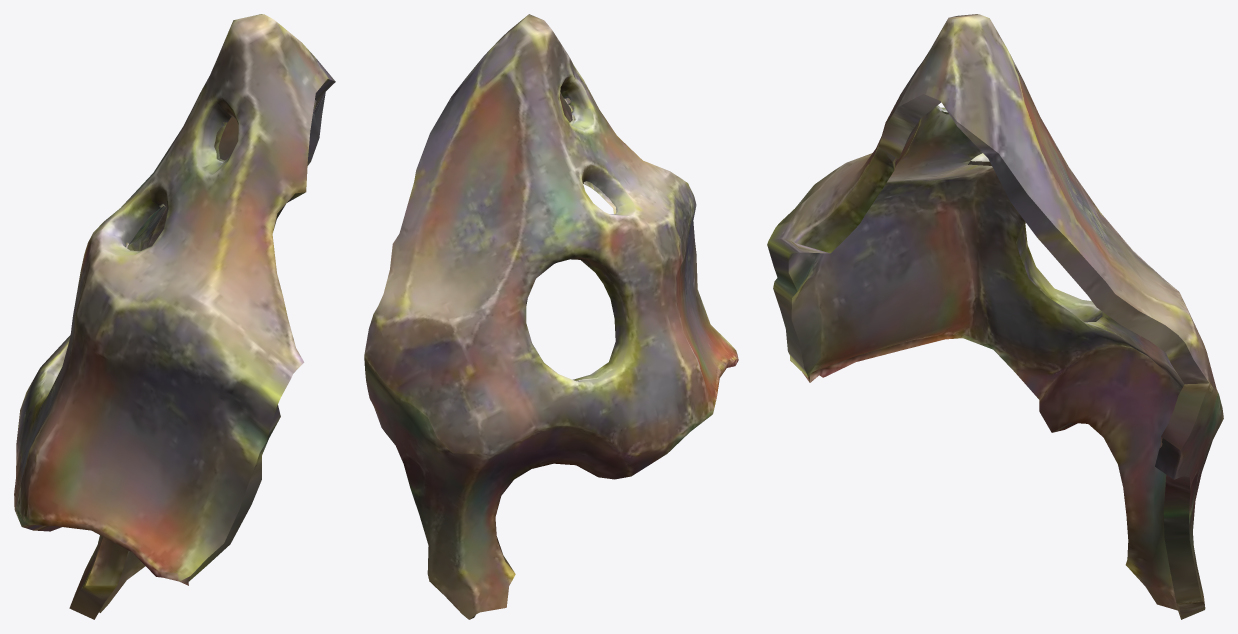
The picture shows the model from 3 angles, left to right: view 1: azimuth 30°, elevation 25°; view 2: azimuth 150°, elevation 25°; view 3: azimuth 270°, elevation 25°; orthographic projection. The views are drawn at different scales.
Visible parts, largest first — view 1: SM_Poison_Rock_Piece_05_LOD0; view 2: SM_Poison_Rock_Piece_05_LOD0; view 3: SM_Poison_Rock_Piece_05_LOD0.
Boxes of the visible parts, left/top/right/bottom form: SM_Poison_Rock_Piece_05_LOD0: left=14, top=14, right=335, bottom=619; SM_Poison_Rock_Piece_05_LOD0: left=364, top=14, right=738, bottom=619; SM_Poison_Rock_Piece_05_LOD0: left=767, top=14, right=1223, bottom=619.
Size of the model in its own units: 1.17 by 2.28 by 1.51.
Materials: 1 (1 with a texture image).
